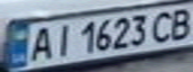1: (75, 18, 96, 54)
2: (112, 14, 136, 50)
3: (127, 11, 154, 47)
6: (93, 16, 115, 52)
A: (24, 24, 57, 62)
B: (166, 4, 193, 40)
C: (148, 8, 178, 43)
I: (48, 20, 75, 58)
